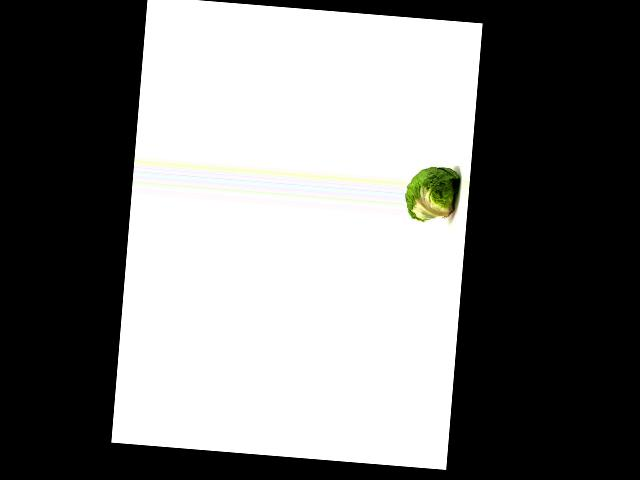lettuce: (403, 163, 463, 225)
